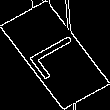L_NE: (21, 28, 89, 82)
